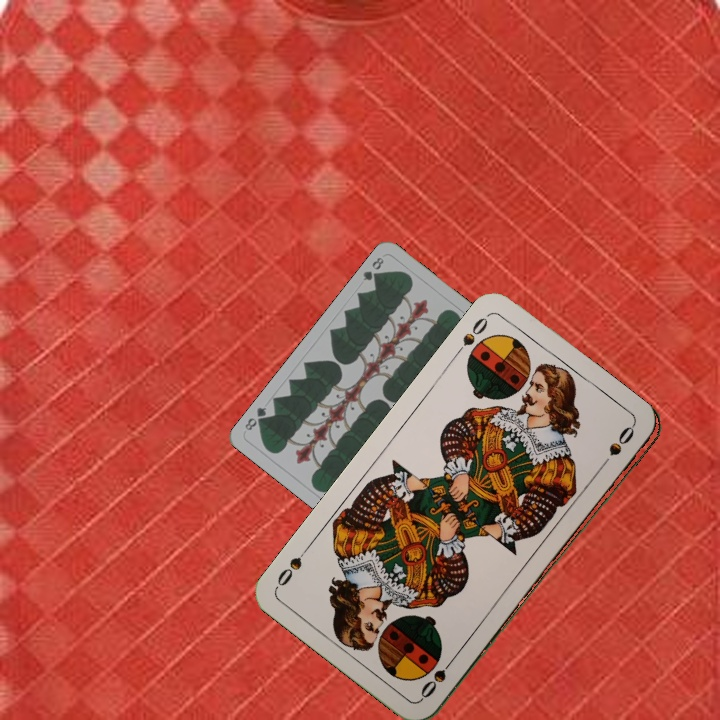G8: (359, 253, 386, 284)
SO: (416, 652, 459, 702), (450, 310, 492, 360)
